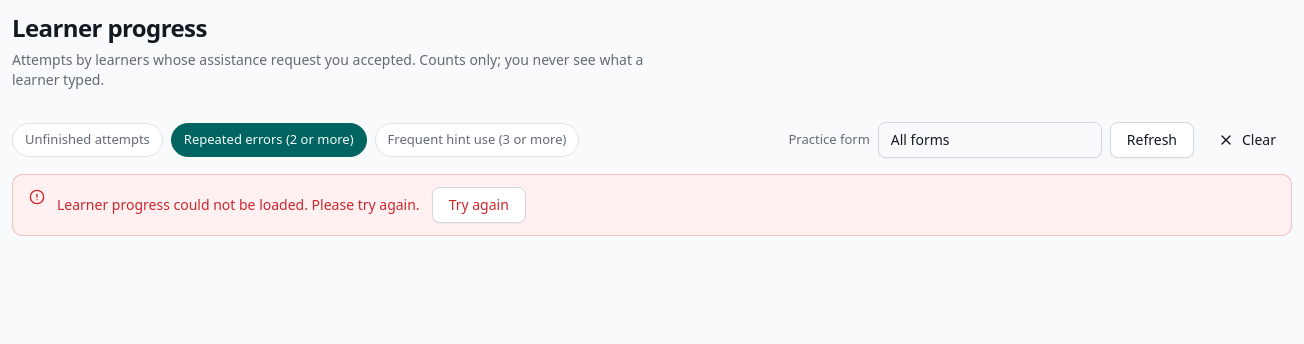
it: US-22 learner progress › retries a failed request and shows progress
expect the message shows "Learner progress could not be loaded. Please try again.": met, box [57,195,420,214]
What coordinates should you click on to do the following:
click the button "Try again"
I would click on:
 (479, 205)
Its box is [432,187,526,223].
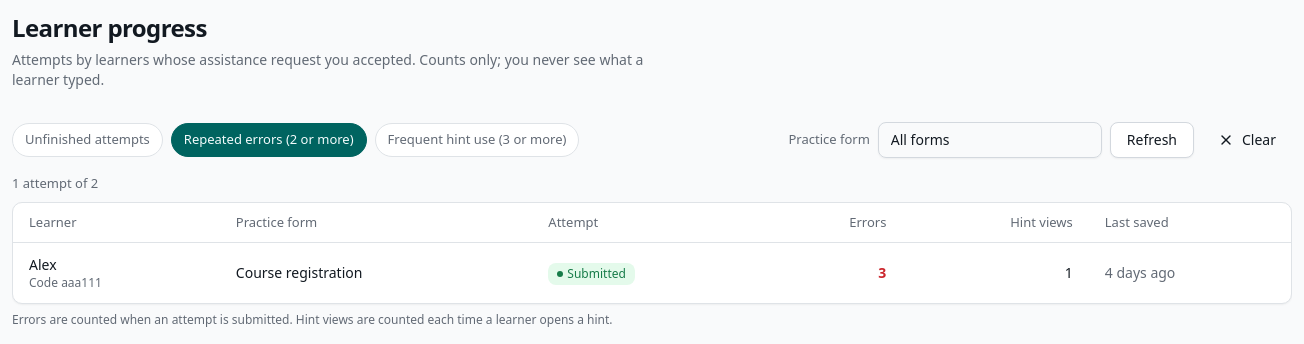
expect the text "Course registration" is shown: met, box [220,242,532,303]
